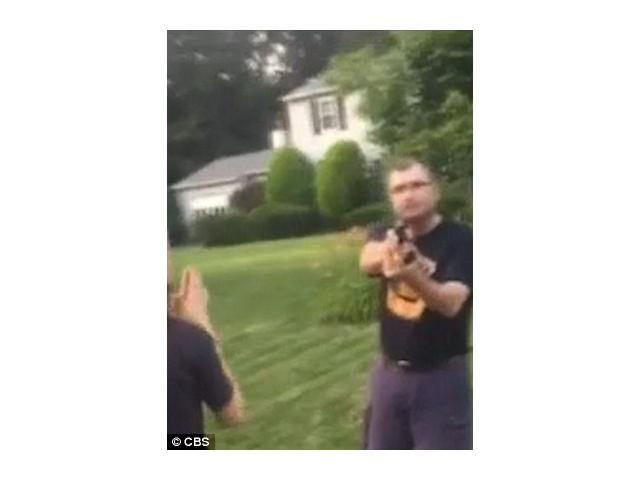pistol: (385, 219, 415, 282)
